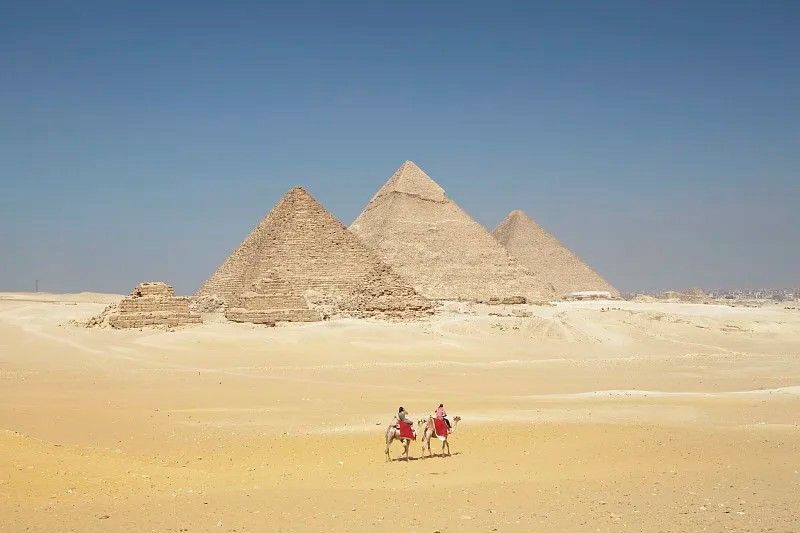Pyramid: (347, 157, 559, 305), (194, 186, 379, 311), (490, 209, 623, 300), (337, 260, 435, 317), (99, 281, 204, 329), (224, 270, 318, 323)
